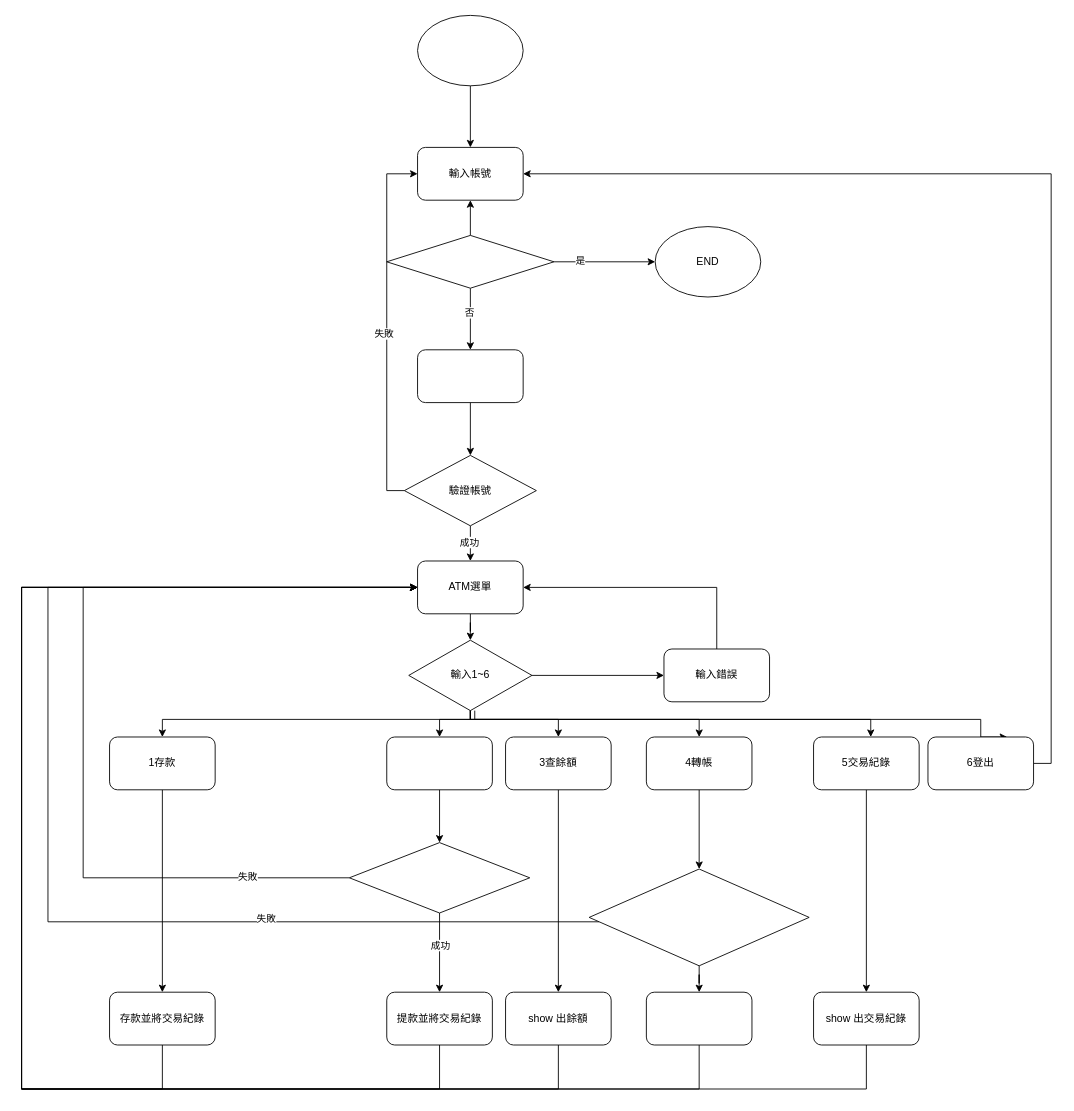
Image size: 1074x1111. Some labels were removed from this diagram. The box of each missing label's shape, as (x1, y1, x2, y2) in pixels:
2提款: (386, 736, 492, 790)
Start: (417, 15, 523, 86)
判斷提款金額是否小於等於餘額: (348, 842, 530, 913)
判斷轉帳金額是否小於等於餘額根是否有這人: (588, 868, 809, 966)
帳號="exit": (386, 235, 554, 288)
輸入密碼: (417, 349, 523, 403)
轉帳給別人並將交易紀錄: (645, 991, 752, 1045)
